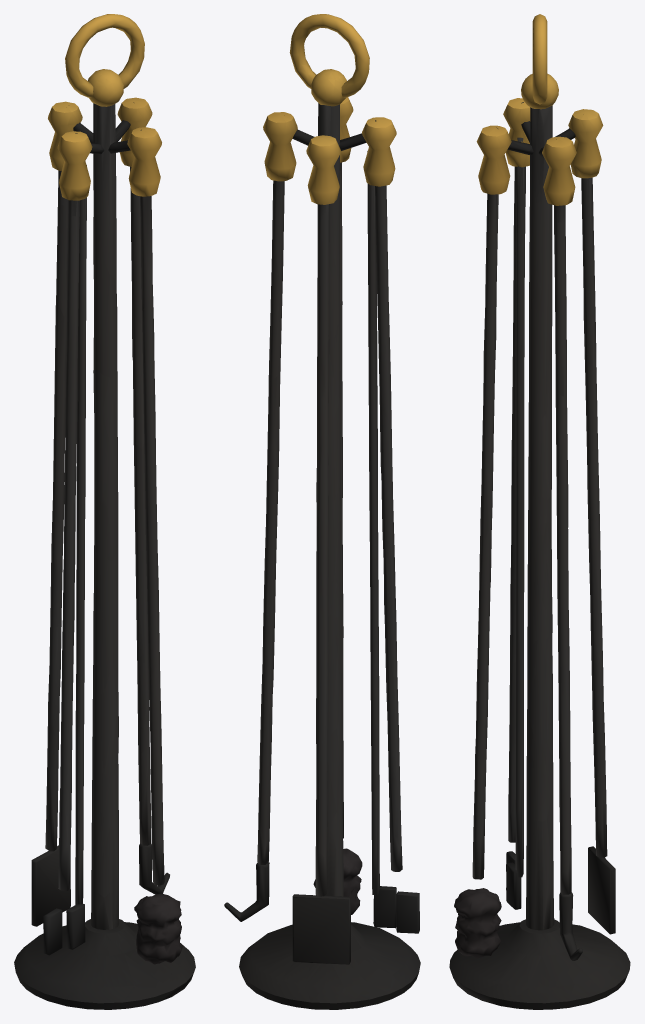
Rendered from ember_fire_irons_lod1.glb.
The picture shows the model from 3 angles, left to right: view 1: azimuth 30°, elevation 25°; view 2: azimuth 150°, elevation 25°; view 3: azimuth 270°, elevation 25°; orthographic projection.
Parts seen in each view (by area): view 1: ember_fire_irons.001; view 2: ember_fire_irons.001; view 3: ember_fire_irons.001.
Boxes of the visible parts, <box> form: ember_fire_irons.001: <box>14,14,195,1009</box>; ember_fire_irons.001: <box>224,14,420,1009</box>; ember_fire_irons.001: <box>449,14,630,1009</box>.
Bounding box in the file's own units: 12.93 × 72.1 × 12.4.
